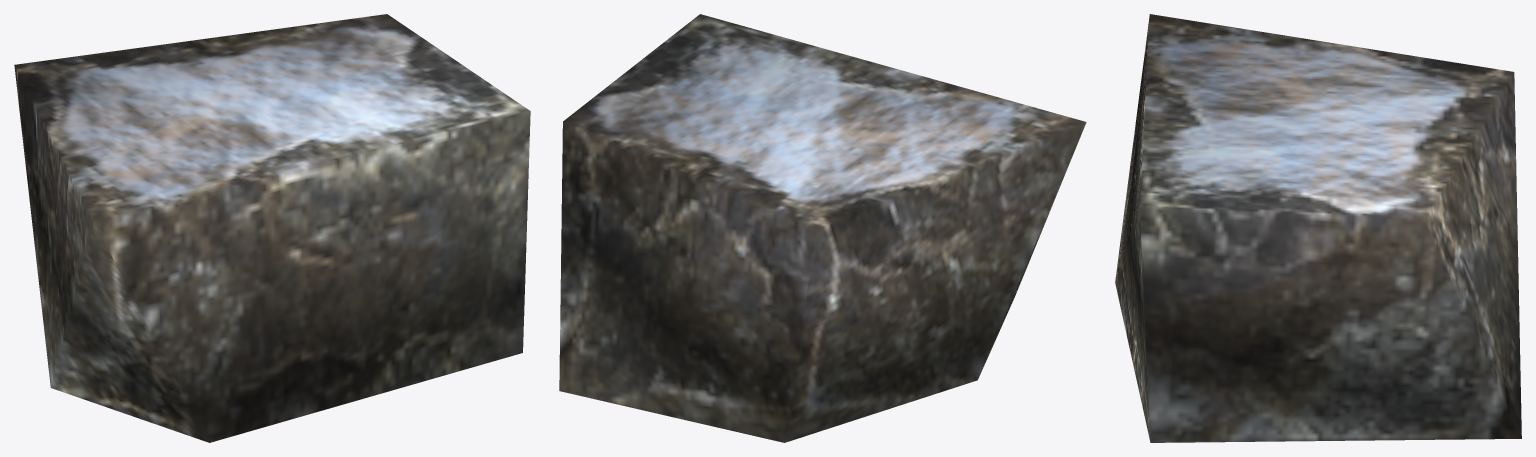
File: Staits1F_LOD.fbx
3 renders of one model, left to right at view 1: azimuth 30°, elevation 25°; view 2: azimuth 150°, elevation 25°; view 3: azimuth 270°, elevation 25°, orthographic. The views are drawn at different scales.
Visible parts, largest first — view 1: polySurface29; view 2: polySurface29; view 3: polySurface29.
Boxes of the visible parts, <box> form: polySurface29: <box>14,14,530,442</box>; polySurface29: <box>559,14,1086,442</box>; polySurface29: <box>1115,14,1521,442</box>.
Bounding box in the file's own units: 1.04 × 0.5927 × 0.8686.
